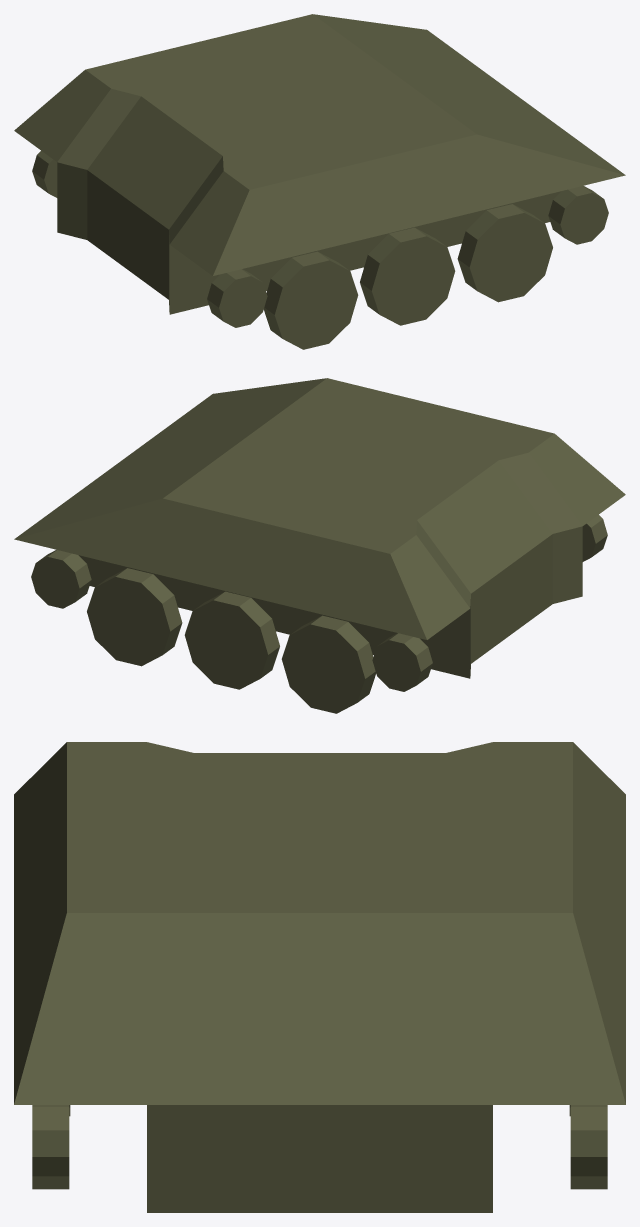
Rendered from tank_body.glb.
3 views of the same model, one above another, from view 1: azimuth 30°, elevation 25°; view 2: azimuth 150°, elevation 25°; view 3: azimuth 270°, elevation 25° (orthographic). The views are drawn at different scales.
Parts seen in each view (by area): view 1: Cube.002; view 2: Cube.002; view 3: Cube.002.
Part boxes in pixels (left/top/right/bottom): Cube.002: left=14, top=14, right=625, bottom=349; Cube.002: left=14, top=378, right=625, bottom=713; Cube.002: left=14, top=742, right=625, bottom=1212.
Bounding box in the file's own units: 3 × 1.13 × 2.5.
